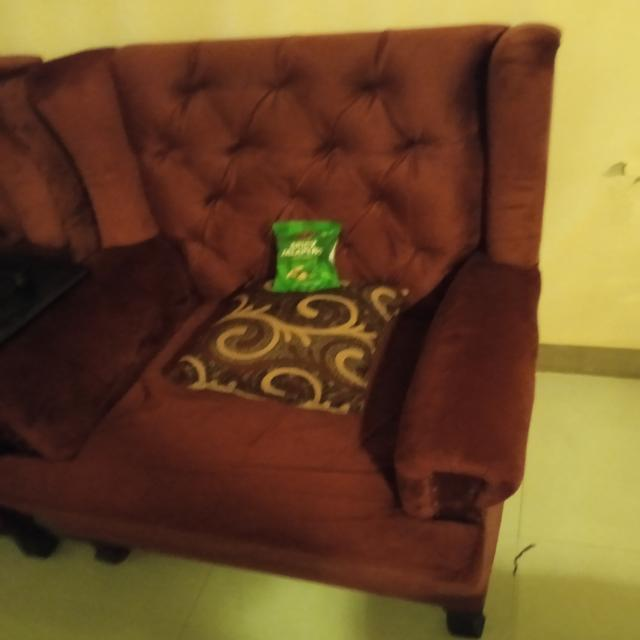Plastic: (278, 220, 338, 289)
